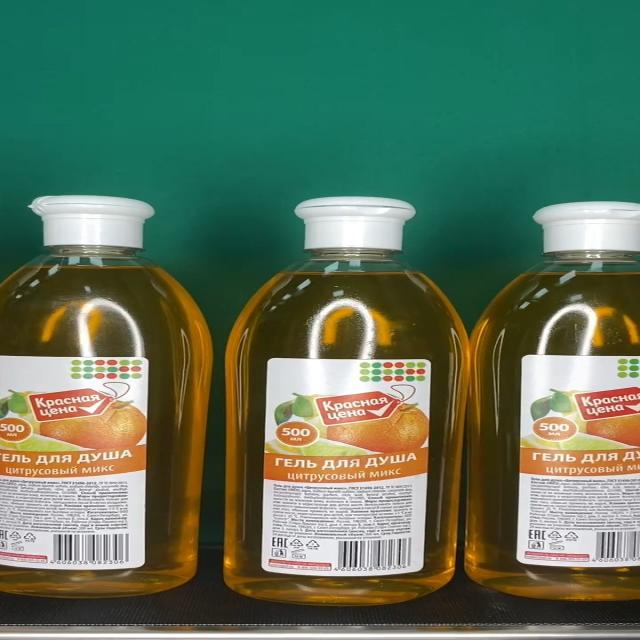Bottle: (225, 197, 471, 604), (0, 194, 212, 596)
Cap: (30, 195, 154, 248), (292, 197, 416, 250)
